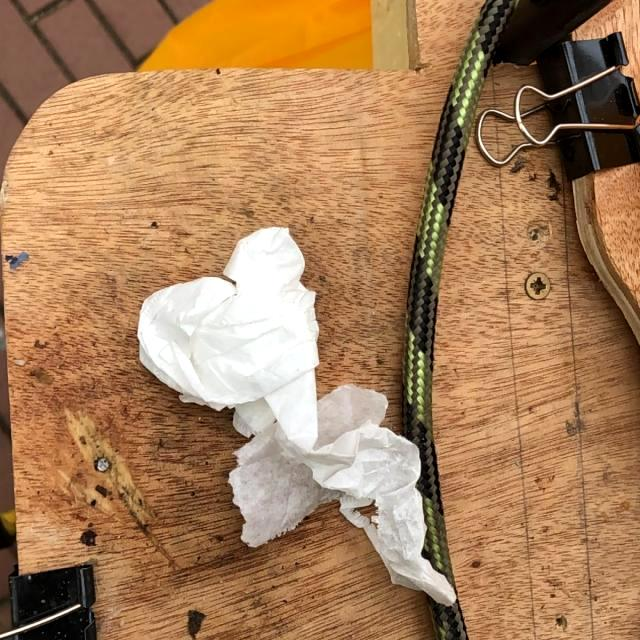Paper: (134, 223, 462, 604)
